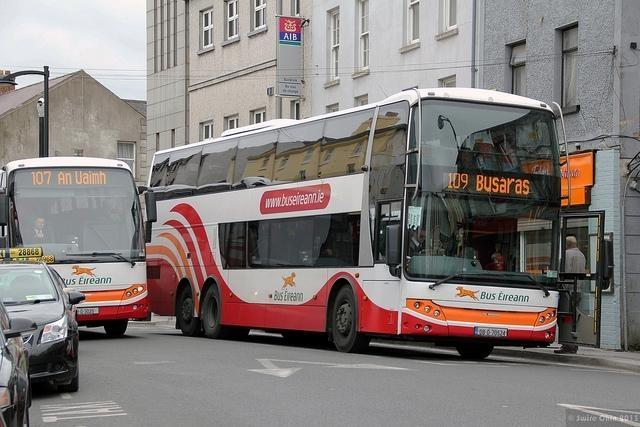bus: (139, 88, 562, 363), (1, 158, 152, 342)
car: (2, 251, 87, 372), (0, 292, 33, 426)
